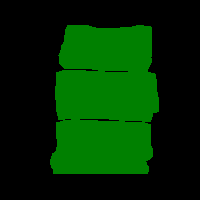mutande: (50, 119, 153, 174), (55, 70, 159, 122), (58, 24, 152, 71)
